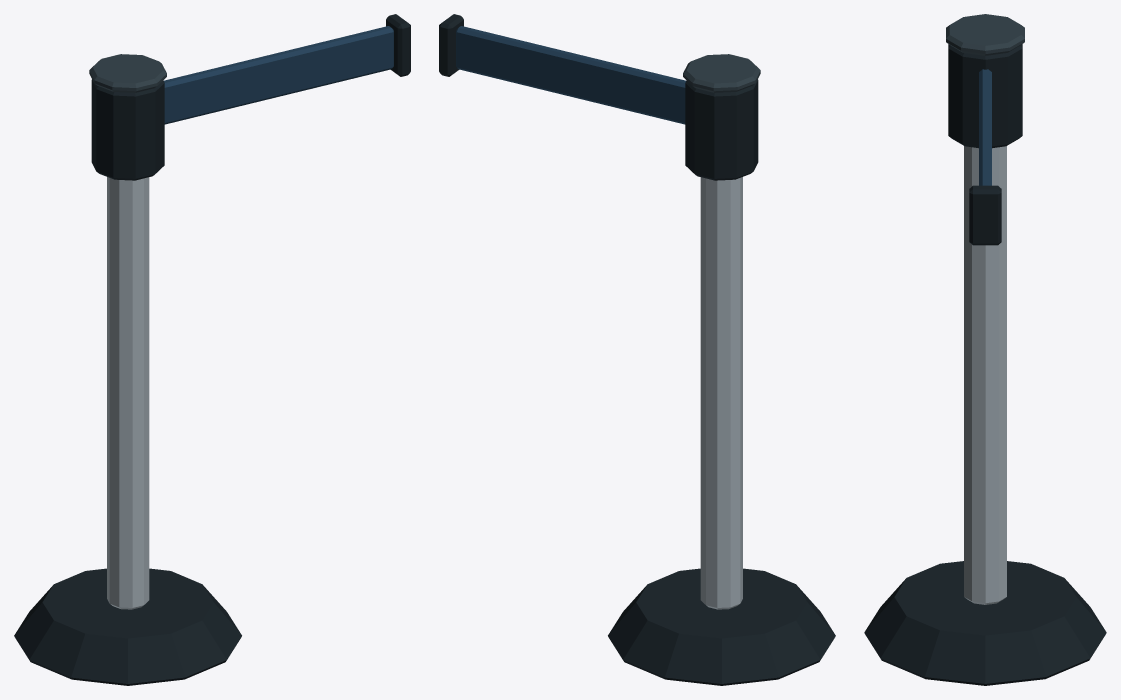
Rendered from b20_retractable_belt_queue_stanchion.glb.
3 views of the same model, side by side, from view 1: azimuth 30°, elevation 25°; view 2: azimuth 150°, elevation 25°; view 3: azimuth 270°, elevation 25° (orthographic). The views are drawn at different scales.
Parts seen in each view (by area): view 1: b20_retractable_belt_queue_stanchion; view 2: b20_retractable_belt_queue_stanchion; view 3: b20_retractable_belt_queue_stanchion.
Boxes of the visible parts, x1,y1,x2,y2 form: b20_retractable_belt_queue_stanchion: (14,14,410,685); b20_retractable_belt_queue_stanchion: (439,14,835,685); b20_retractable_belt_queue_stanchion: (864,14,1106,685).
Bounding box in the file's own units: 0.709 × 1.03 × 0.373.
